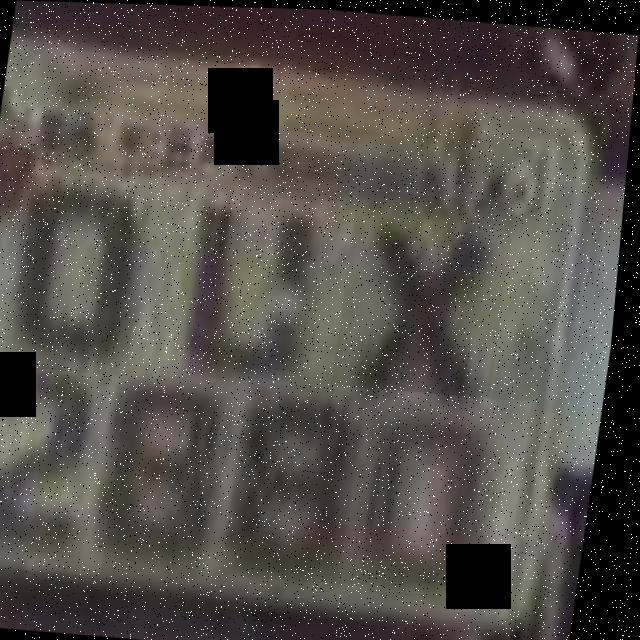0: (362, 387, 540, 599)
2: (0, 364, 136, 575)
8: (231, 380, 399, 584)
O: (0, 173, 159, 387)
X: (338, 187, 522, 395)
